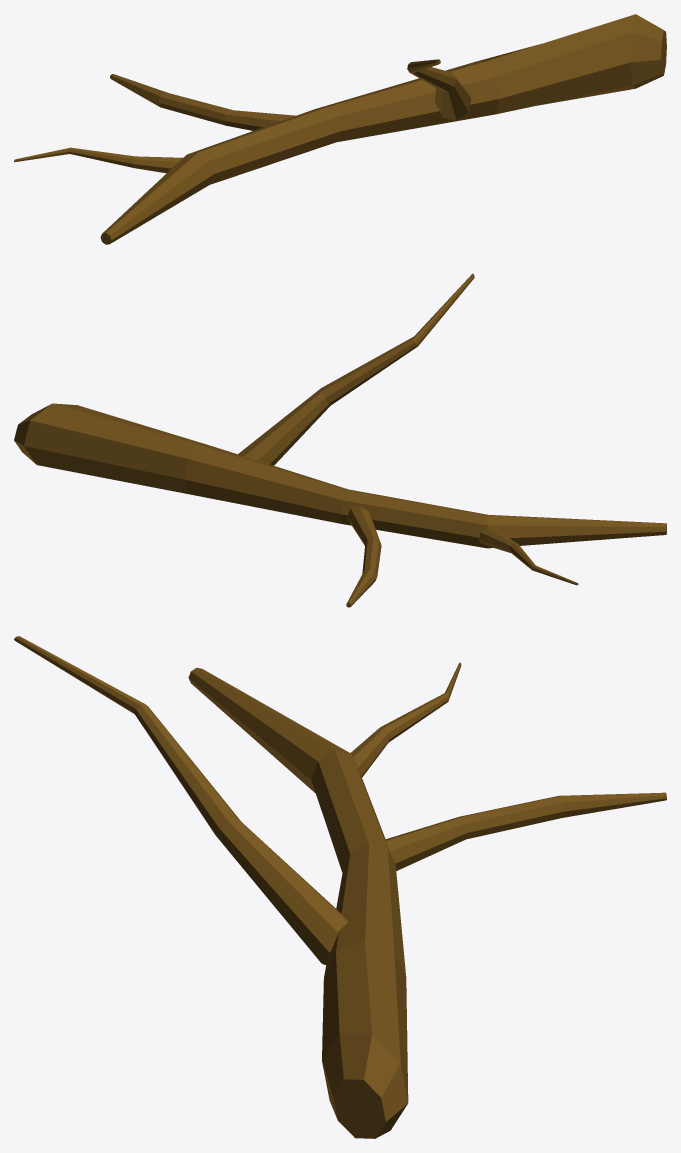
Rendered from Ast_04_rdy.fbx.
3 renders of one model, top to bottom at view 1: azimuth 30°, elevation 25°; view 2: azimuth 150°, elevation 25°; view 3: azimuth 270°, elevation 25°, orthographic. The views are drawn at different scales.
Parts seen in each view (by area): view 1: Ast_04; view 2: Ast_04; view 3: Ast_04.
Part boxes in pixels (x1,y1,x2,y2): Ast_04: [14, 14, 666, 244]; Ast_04: [14, 273, 666, 607]; Ast_04: [14, 636, 666, 1138].
Bounding box in the file's own units: 1083 × 320 × 688.
